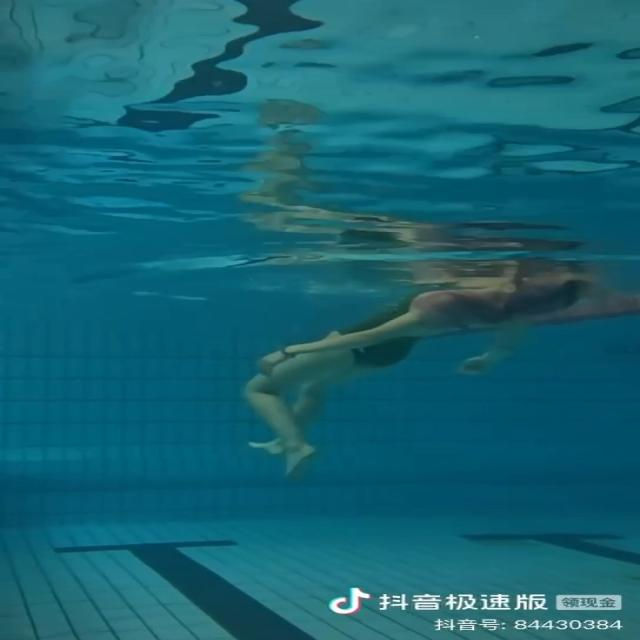Drowning: (237, 271, 587, 480)
